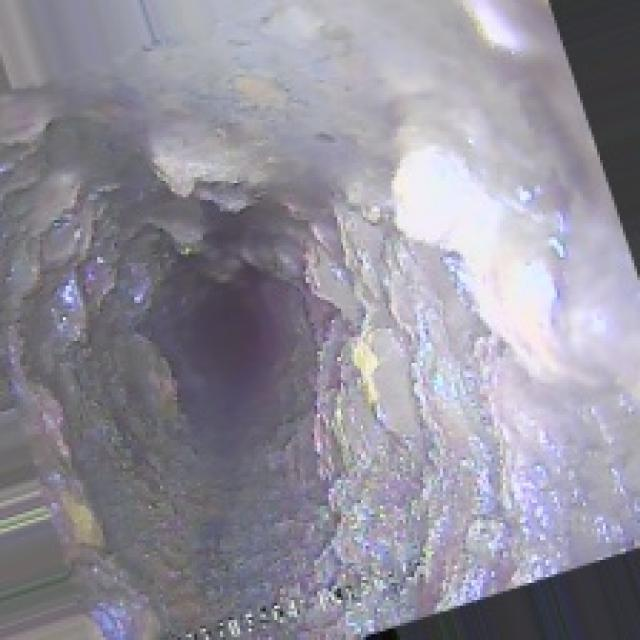encrustation: (326, 103, 583, 548)
